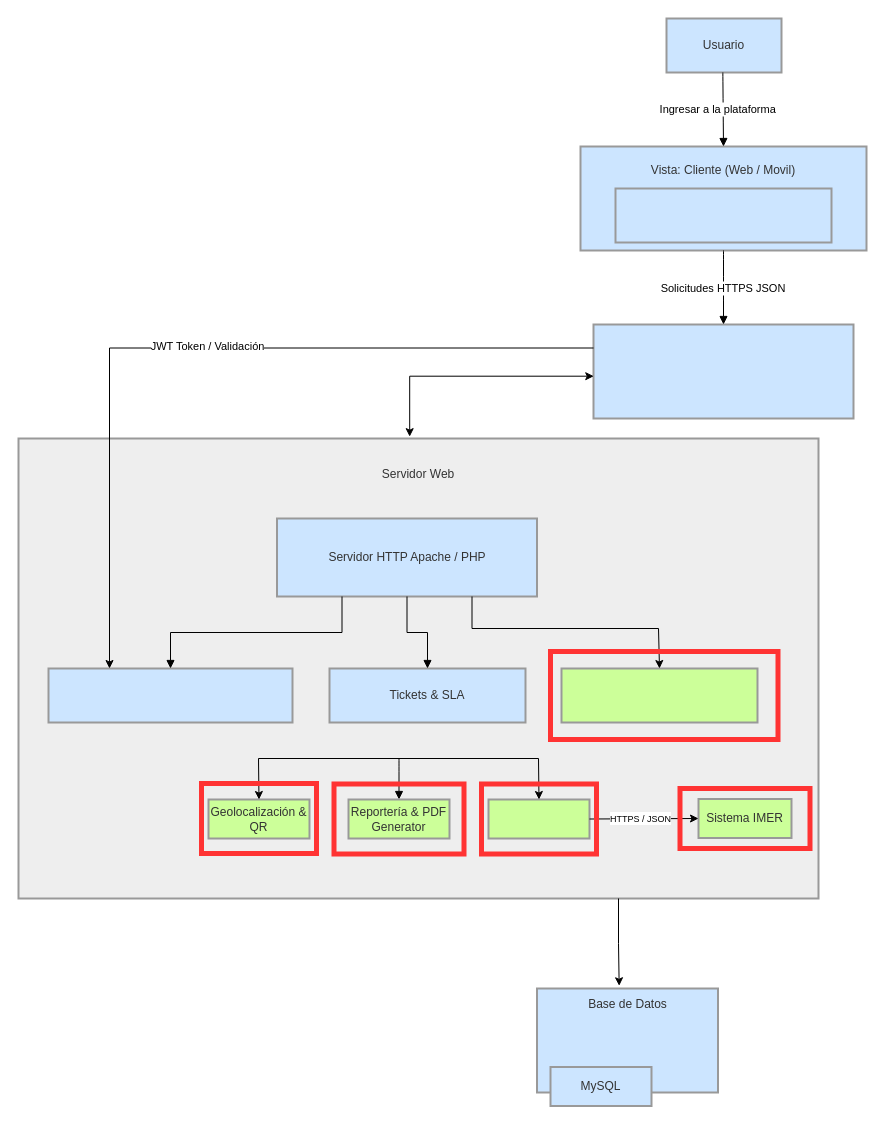
This 884x1124 diagram has some shape labels left out. The centre of each missing label's shape, as x and y in pixels:
"Autenticación JWT" belongs at (x=170, y=695).
"Integración IMER" belongs at (x=538, y=818).
"Inventario & Bodega" belongs at (x=659, y=695).
"Navegador Web / App" belongs at (x=723, y=215).
"«Middleware» Body-parser / Validador Integridad" belongs at (x=723, y=371).
